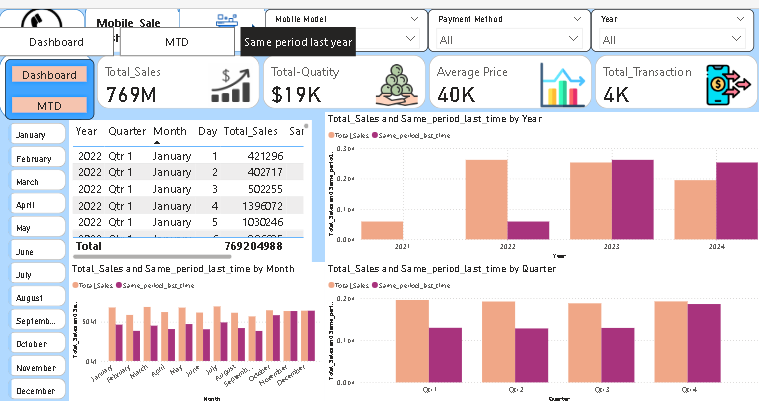

The page's visual inventory and layout, read from the dashboard file:
{"tool":"powerbi","page":{"name":"Same period last year","canvas":[1280,720],"ordinal":2},"visuals":[{"type":"shape","box":[0,55.4,144.5,72.2],"z":0},{"type":"image","box":[25.2,47,92.4,79],"z":1000},{"type":"shape","box":[0,127.7,159.6,114.2],"z":2000},{"type":"cardVisual","fields":{"Data":["Mobile Sell.Total_Sales","Mobile Sell.Total-Quatity","Mobile Sell.Average Price","Mobile Sell.Total_Transaction"]},"box":[159.6,127.7,1120.4,100.8],"z":3000},{"type":"slicer","fields":{"Values":["Mobile Sell.Mobile Model"]},"box":[446.8,55.4,273.8,72.2],"z":4000},{"type":"slicer","fields":{"Values":["Mobile Sell.Payment Method"]},"box":[720.6,55.4,273.8,72.2],"z":5000},{"type":"slicer","fields":{"Values":["Custom_Caleander.Date.Variation.Date Hierarchy.Year"]},"box":[994.4,55.4,273.8,72.2],"z":6000},{"type":"shape","box":[302.4,38.6,144.5,89],"z":7000},{"type":"image","box":[319.2,58.8,127.7,55.4],"z":8000},{"type":"shape","box":[408.2,80.6,26.9,20.2],"z":9000},{"type":"shape","box":[144.5,42,157.9,85.7],"z":10000},{"type":"textbox","box":[159.6,60.5,142.8,67.2],"z":11000},{"type":"advancedSlicerVisual","fields":{"Values":["Custom_Caleander.Date.Variation.Date Hierarchy.Month"]},"box":[10.1,241.9,107.5,478.7],"z":13000},{"type":"clusteredColumnChart","fields":{"Category":["Custom_Caleander.Date.Variation.Date Hierarchy.Year","Custom_Caleander.Date.Variation.Date Hierarchy.Quarter","Custom_Caleander.Date.Variation.Date Hierarchy.Month","Custom_Caleander.Date.Variation.Date Hierarchy.Day"],"Y":["Mobile Sell.Total_Sales","Mobile Sell.Same_period_last_time"]},"box":[547.6,228.5,732.4,252],"z":13001},{"type":"tableEx","fields":{"Values":["Custom_Caleander.Date.Variation.Date Hierarchy.Year","Custom_Caleander.Date.Variation.Date Hierarchy.Quarter","Custom_Caleander.Date.Variation.Date Hierarchy.Month","Custom_Caleander.Date.Variation.Date Hierarchy.Day","Mobile Sell.Total_Sales","Mobile Sell.Same_period_last_time"]},"box":[117.6,241.9,408.2,238.5],"z":13002},{"type":"clusteredColumnChart","fields":{"Category":["Custom_Caleander.Date.Variation.Date Hierarchy.Year","Custom_Caleander.Date.Variation.Date Hierarchy.Quarter","Custom_Caleander.Date.Variation.Date Hierarchy.Month","Custom_Caleander.Date.Variation.Date Hierarchy.Day"],"Y":["Mobile Sell.Total_Sales","Mobile Sell.Same_period_last_time"]},"box":[117.6,480.4,430,240.2],"z":13003},{"type":"clusteredColumnChart","fields":{"Category":["Custom_Caleander.Date.Variation.Date Hierarchy.Year","Custom_Caleander.Date.Variation.Date Hierarchy.Quarter","Custom_Caleander.Date.Variation.Date Hierarchy.Month","Custom_Caleander.Date.Variation.Date Hierarchy.Day"],"Y":["Mobile Sell.Total_Sales","Mobile Sell.Same_period_last_time"]},"box":[547.6,480.4,732.4,240.2],"z":13004},{"type":"pageNavigator","box":[0,86,600.5,49.3],"z":13005},{"type":"pageNavigator","box":[10.1,139.4,149.5,102.5],"z":13006}]}

Visuals, with their boxes on the page's 1280x720 design canvas (x1, y1, x2, y2). These are canvas units, not pixel positions in the 759x401 screenshot, which may show the page scaled, cropped or inside an application window:
shape: crop(0, 55, 144, 128)
image: crop(25, 47, 118, 126)
shape: crop(0, 128, 160, 242)
cardVisual - Mobile Sell.Total_Sales x Mobile Sell.Total-Quatity: crop(160, 128, 1280, 228)
slicer - Mobile Sell.Mobile Model: crop(447, 55, 721, 128)
slicer - Mobile Sell.Payment Method: crop(721, 55, 994, 128)
slicer - Custom_Caleander.Date.Variation.Date Hierarchy.Year: crop(994, 55, 1268, 128)
shape: crop(302, 39, 447, 128)
image: crop(319, 59, 447, 114)
shape: crop(408, 81, 435, 101)
shape: crop(144, 42, 302, 128)
textbox: crop(160, 60, 302, 128)
advancedSlicerVisual - Custom_Caleander.Date.Variation.Date Hierarchy.Month: crop(10, 242, 118, 721)
clusteredColumnChart - Custom_Caleander.Date.Variation.Date Hierarchy.Year x Custom_Caleander.Date.Variation.Date Hierarchy.Quarter: crop(548, 228, 1280, 480)
tableEx - Custom_Caleander.Date.Variation.Date Hierarchy.Year x Custom_Caleander.Date.Variation.Date Hierarchy.Quarter: crop(118, 242, 526, 480)
clusteredColumnChart - Custom_Caleander.Date.Variation.Date Hierarchy.Year x Custom_Caleander.Date.Variation.Date Hierarchy.Quarter: crop(118, 480, 548, 721)
clusteredColumnChart - Custom_Caleander.Date.Variation.Date Hierarchy.Year x Custom_Caleander.Date.Variation.Date Hierarchy.Quarter: crop(548, 480, 1280, 721)
pageNavigator: crop(0, 86, 600, 135)
pageNavigator: crop(10, 139, 160, 242)
